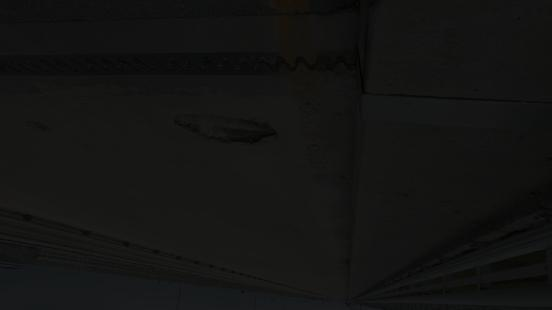pothole: (162, 99, 290, 162)
